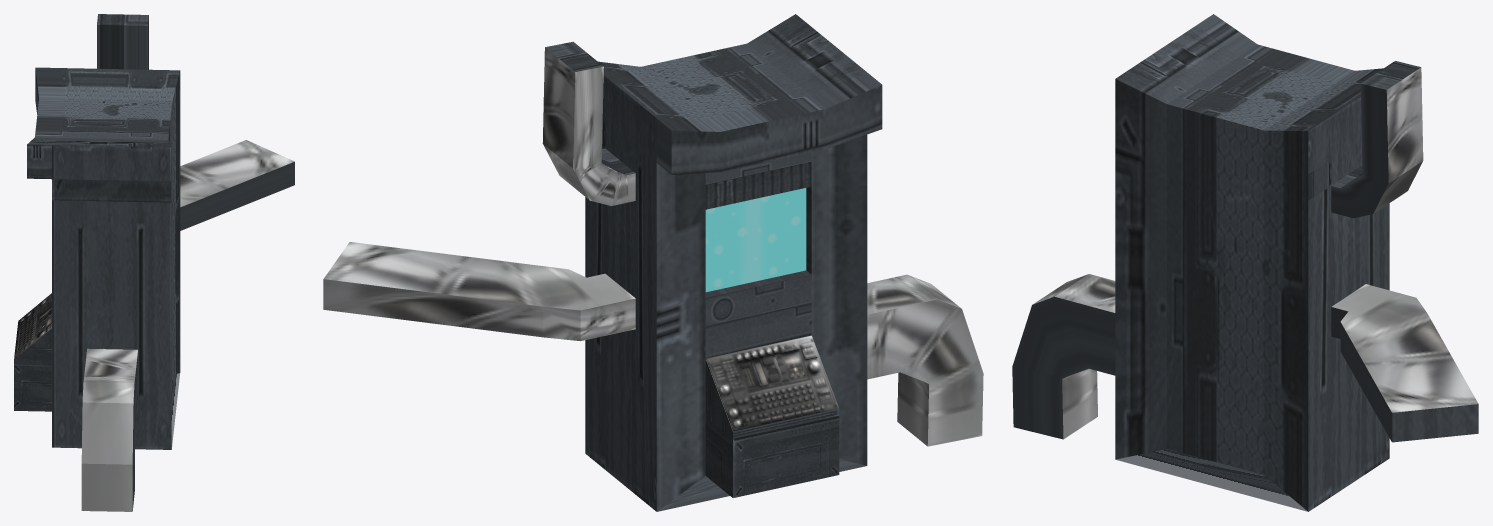
File: OxygenStation.fbx
3 renders of one model, left to right at view 1: azimuth 30°, elevation 25°; view 2: azimuth 150°, elevation 25°; view 3: azimuth 270°, elevation 25°, orthographic. The views are drawn at different scales.
Parts seen in each view (by area): view 1: Cube.056; view 2: Cube.056; view 3: Cube.056.
Part boxes in pixels (x1,y1,x2,y2): Cube.056: (14, 14, 294, 511); Cube.056: (323, 14, 983, 511); Cube.056: (1012, 14, 1478, 511).
Bounding box in the file's own units: 23.35 × 22.18 × 21.39.
